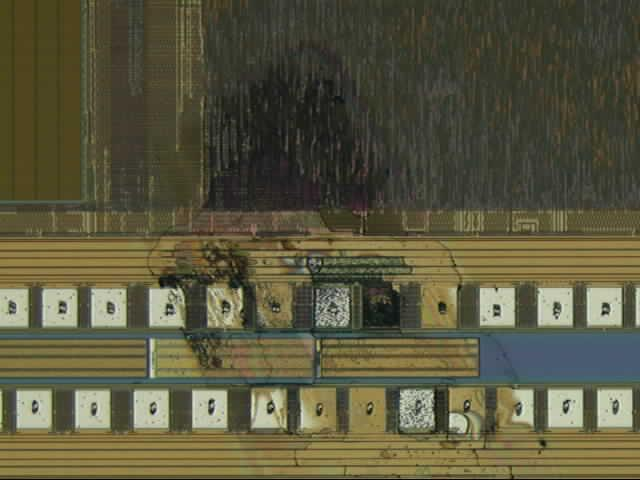PO CONTAMINATION: (133, 38, 563, 480)
